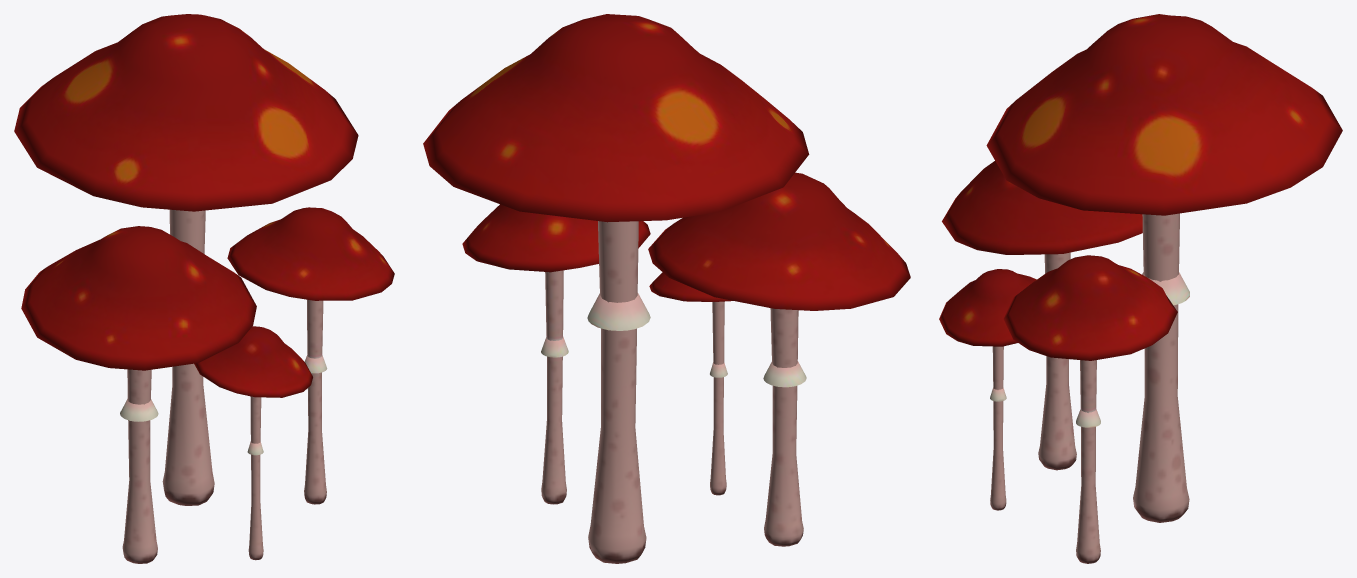
Rendered from Mushroom3.fbx.
3 views of the same model, side by side, from view 1: azimuth 30°, elevation 25°; view 2: azimuth 150°, elevation 25°; view 3: azimuth 270°, elevation 25° (orthographic). The views are drawn at different scales.
Parts seen in each view (by area): view 1: mushroom.002; view 2: mushroom.002; view 3: mushroom.002.
Boxes of the visible parts, box(x1,y1,x2,y2) form: mushroom.002: box(14, 14, 394, 563); mushroom.002: box(423, 14, 910, 563); mushroom.002: box(939, 14, 1342, 563).
Bounding box in the file's own units: 6.42 × 8.05 × 6.03.
Materials: 1 (1 with a texture image).
